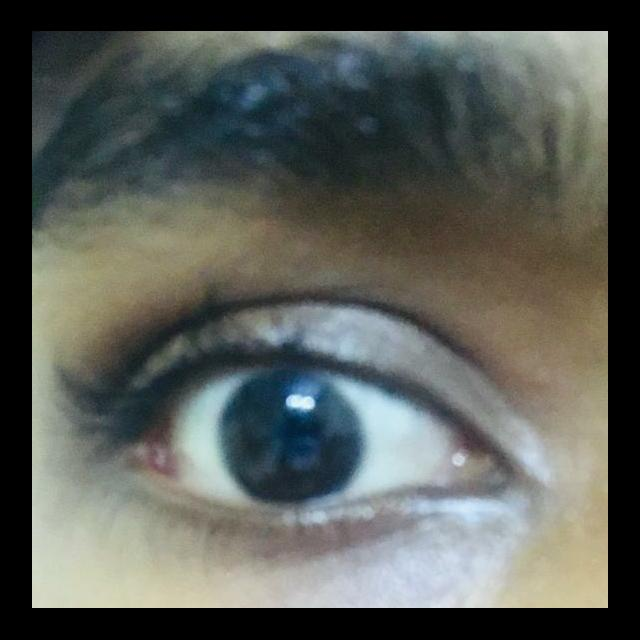eye: (160, 364, 463, 513)
iris: (217, 371, 366, 508)
